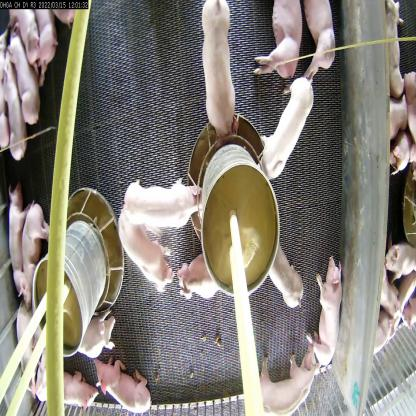Pig: (193, 0, 238, 145), (123, 221, 181, 312), (263, 80, 312, 176), (0, 40, 30, 192), (118, 184, 199, 236), (308, 252, 344, 367), (67, 298, 126, 366), (248, 357, 312, 415), (258, 1, 304, 81), (6, 21, 42, 123), (18, 206, 58, 296), (5, 184, 28, 328), (93, 361, 153, 416), (298, 0, 338, 81), (32, 367, 94, 415), (270, 236, 305, 317), (175, 255, 220, 307), (15, 0, 47, 58)
